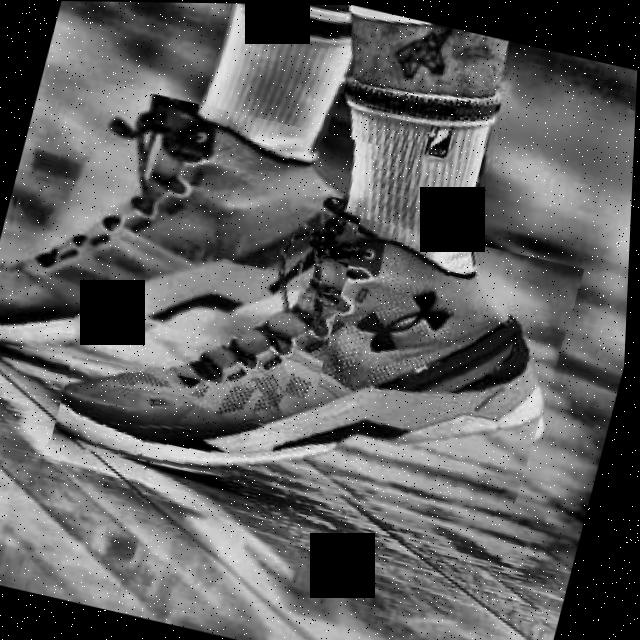shoe: (51, 162, 591, 549), (0, 67, 383, 413)
